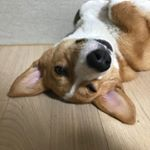puppy: (5, 1, 150, 127)
